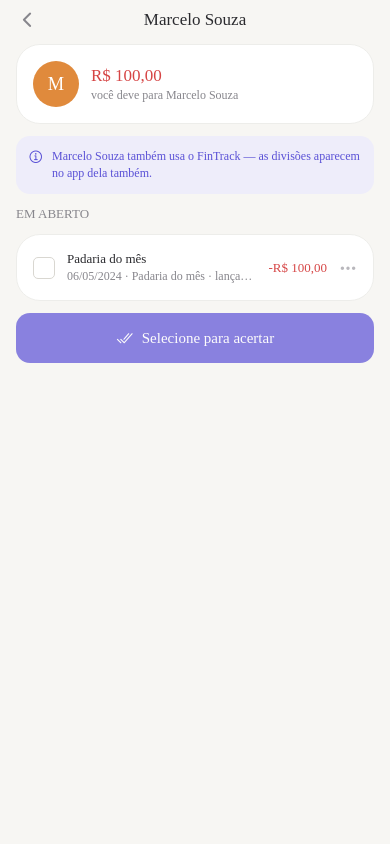
Test: Acertos · pessoa › a divisão de quem compartilha comigo não oferece exclusão
Click the button named "Opções de Padaria do mês".
click(348, 268)  # box [339,258,357,278]
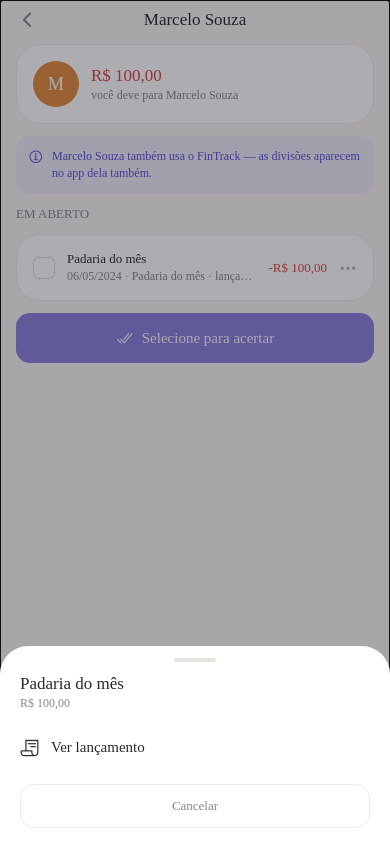
Expected: the text "Ver lançamento" is shown, [51,739,145,755]
